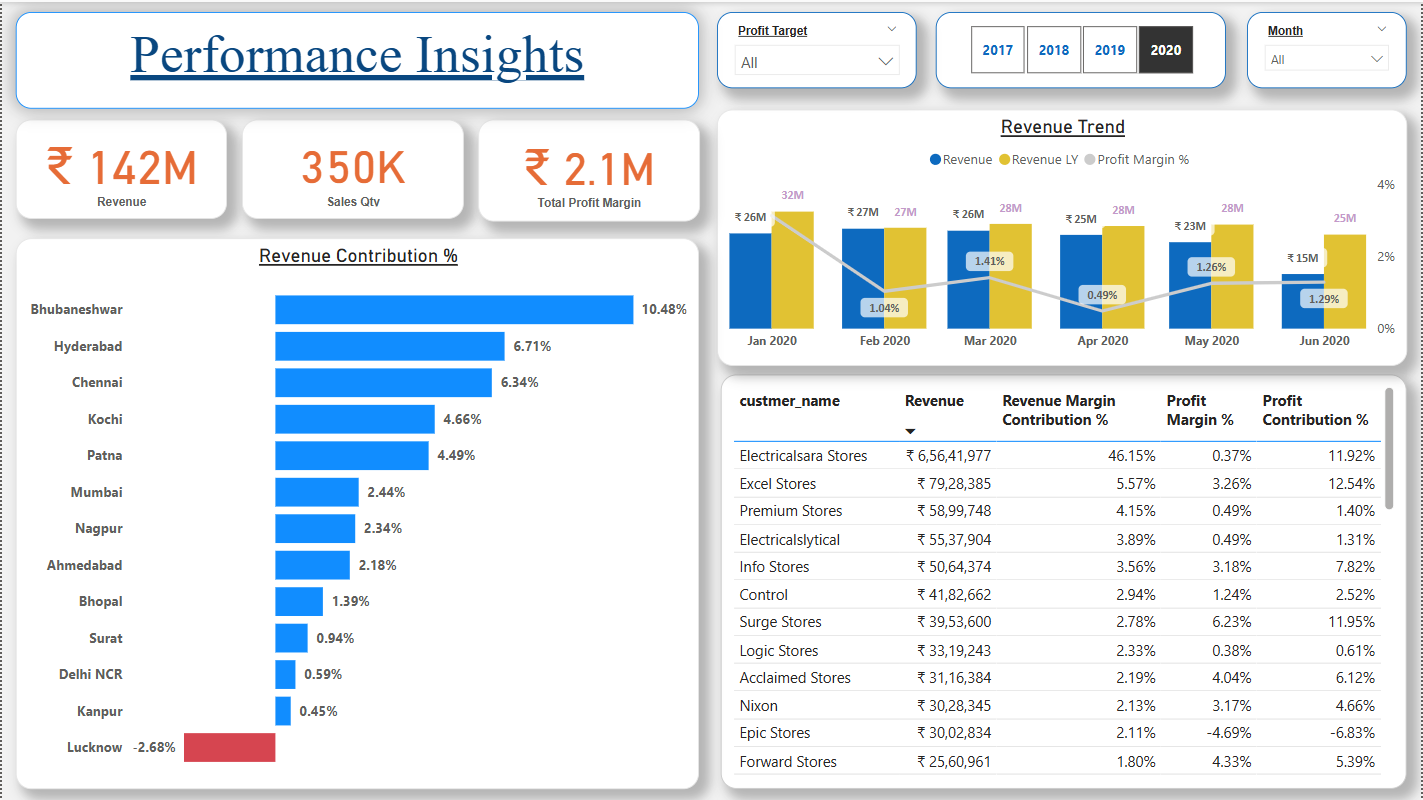

What the dashboard file says about the page in this screenshot:
{"tool":"powerbi","page":{"name":"Performance Insights","canvas":[1280,720],"ordinal":2},"visuals":[{"type":"card","fields":{"Values":["Base Measures.Revenue"]},"box":[12.8,105.8,190.7,89.5],"z":1000},{"type":"card","fields":{"Values":["Base Measures.Sales Qty"]},"box":[216.3,105.8,200,89.5],"z":2000},{"type":"slicer","fields":{"Values":["date.date.Variation.Date Hierarchy.Year"]},"box":[842.4,9.3,261.6,68.6],"z":3000},{"type":"slicer","fields":{"Values":["date.date.Variation.Date Hierarchy.Month"]},"box":[1122.1,9.3,144.2,68.6],"z":4000},{"type":"tableEx","title":"Top 5 Customers","fields":{"Values":["customers.custmer_name","Base Measures.Revenue","Base Measures.Revenue Margin Contribution %","Base Measures.Profit Margin %","Base Measures.Profit Margin Contribution %"]},"box":[647.7,336,618.6,373.3],"z":5000},{"type":"lineClusteredColumnComboChart","title":"Revenue Trend","fields":{"Category":["date.cy_date"],"Y":["Base Measures.Revenue","Base Measures.Revenue LY"],"Y2":["Base Measures.Profit Margin %"]},"box":[644.2,96.5,622.1,231.4],"z":6000},{"type":"card","fields":{"Values":["Base Measures.Total Profit Margin"]},"box":[429.1,105.8,200,91.9],"z":7000},{"type":"barChart","title":"Revenue Contribution %","fields":{"Category":["markets.zone","markets.markets_name"],"Y":["Base Measures.Profit Margin %"]},"box":[12.8,212.8,616.3,496.5],"z":8000},{"type":"slicer","fields":{"Values":["Profit Target.Profit Target"]},"box":[644.2,9.3,180.2,68.6],"z":9000},{"type":"textbox","box":[12.8,9.3,616.3,87.2],"z":10000}]}

Visuals, with their boxes in screenshot pixels (x1, y1, x2, y2), scaled from the page's 1280x720 canvas onto the 1423x800 screenshot:
card - Base Measures.Revenue: [14, 118, 226, 217]
card - Base Measures.Sales Qty: [240, 118, 463, 217]
slicer - date.date.Variation.Date Hierarchy.Year: [937, 10, 1227, 87]
slicer - date.date.Variation.Date Hierarchy.Month: [1247, 10, 1408, 87]
"Top 5 Customers" tableEx: [720, 373, 1408, 788]
"Revenue Trend" lineClusteredColumnComboChart: [716, 107, 1408, 364]
card - Base Measures.Total Profit Margin: [477, 118, 699, 220]
"Revenue Contribution %" barChart: [14, 236, 699, 788]
slicer - Profit Target.Profit Target: [716, 10, 917, 87]
textbox: [14, 10, 699, 107]
